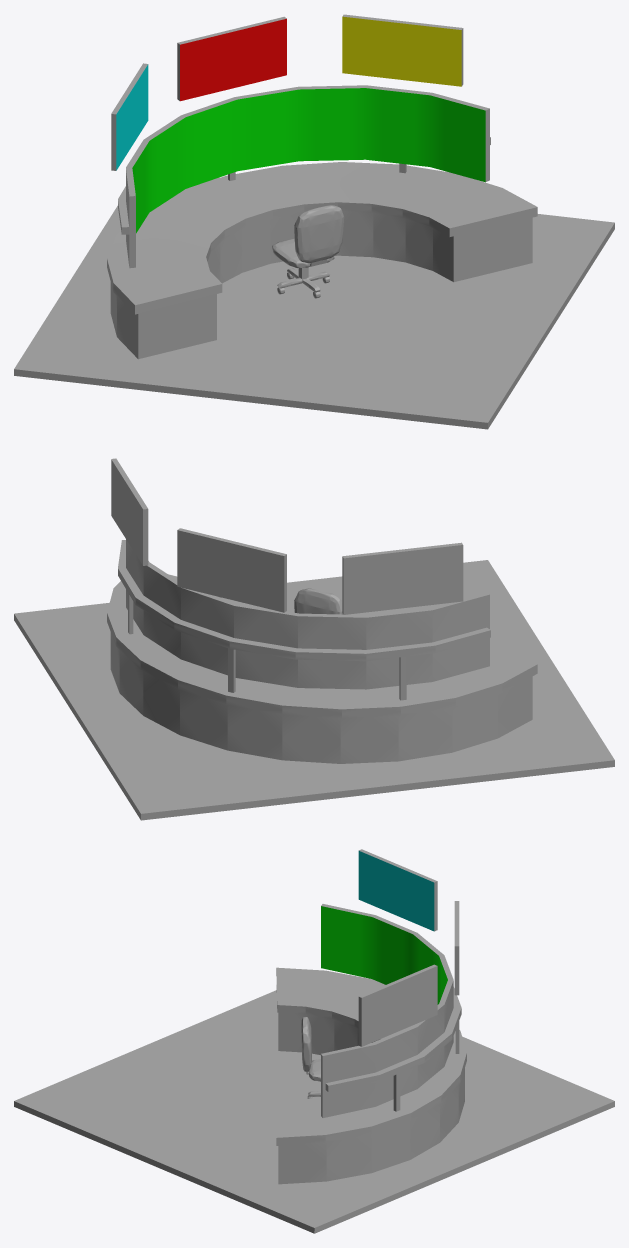
The model's file is Control_Room_Subdivided.fbx.
The picture shows the model from 3 angles, top to bottom: view 1: azimuth 30°, elevation 25°; view 2: azimuth 150°, elevation 25°; view 3: azimuth 270°, elevation 25°; orthographic projection. The views are drawn at different scales.
Parts seen in each view (by area): view 1: ControlRoom, Main_Screen, Top_right_screen, Top_mid_screen, Chair, Top_left_screen; view 2: ControlRoom, Chair; view 3: ControlRoom, Main_Screen, Top_left_screen, Chair.
Part boxes in pixels (x1=…): ControlRoom: x1=14, y1=14, x2=614, y2=429; Main_Screen: x1=132, y1=88, x2=485, y2=233; Top_right_screen: x1=342, y1=16, x2=461, y2=86; Top_mid_screen: x1=180, y1=18, x2=286, y2=101; Chair: x1=272, y1=205, x2=344, y2=298; Top_left_screen: x1=116, y1=64, x2=148, y2=170; ControlRoom: x1=14, y1=458, x2=614, y2=820; Chair: x1=294, y1=588, x2=343, y2=614; ControlRoom: x1=14, y1=849, x2=614, y2=1233; Main_Screen: x1=321, y1=906, x2=447, y2=1004; Top_left_screen: x1=358, y1=851, x2=434, y2=931; Chair: x1=301, y1=1017, x2=320, y2=1098.
Bounding box in the file's own units: 5.38 × 1.81 × 5.38.
